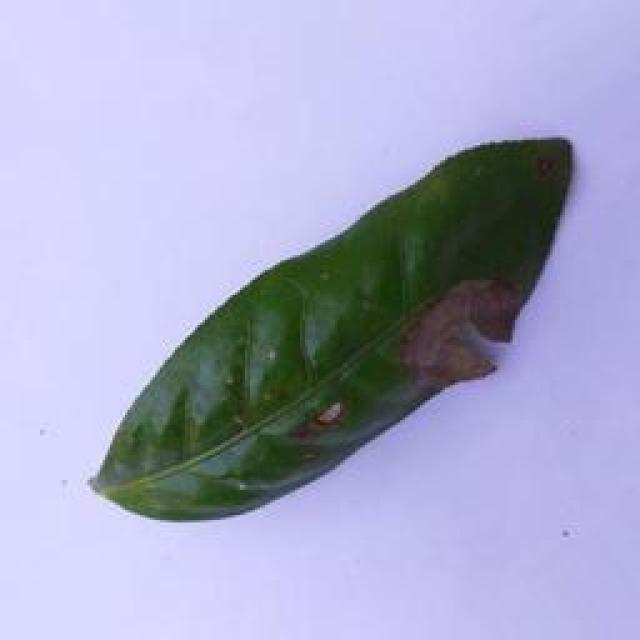Gray Blight: (100, 136, 577, 524)
